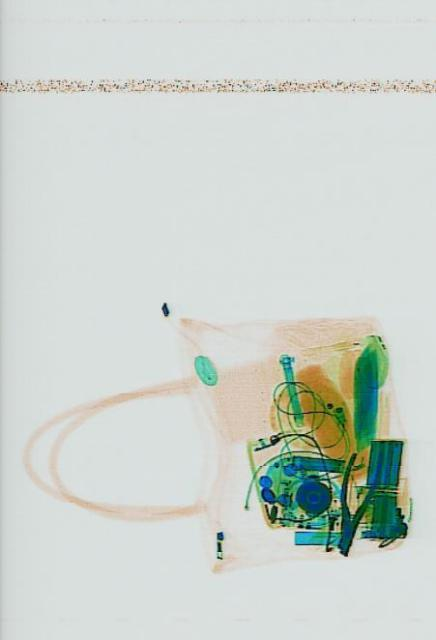Pliers: (324, 439, 381, 559)
